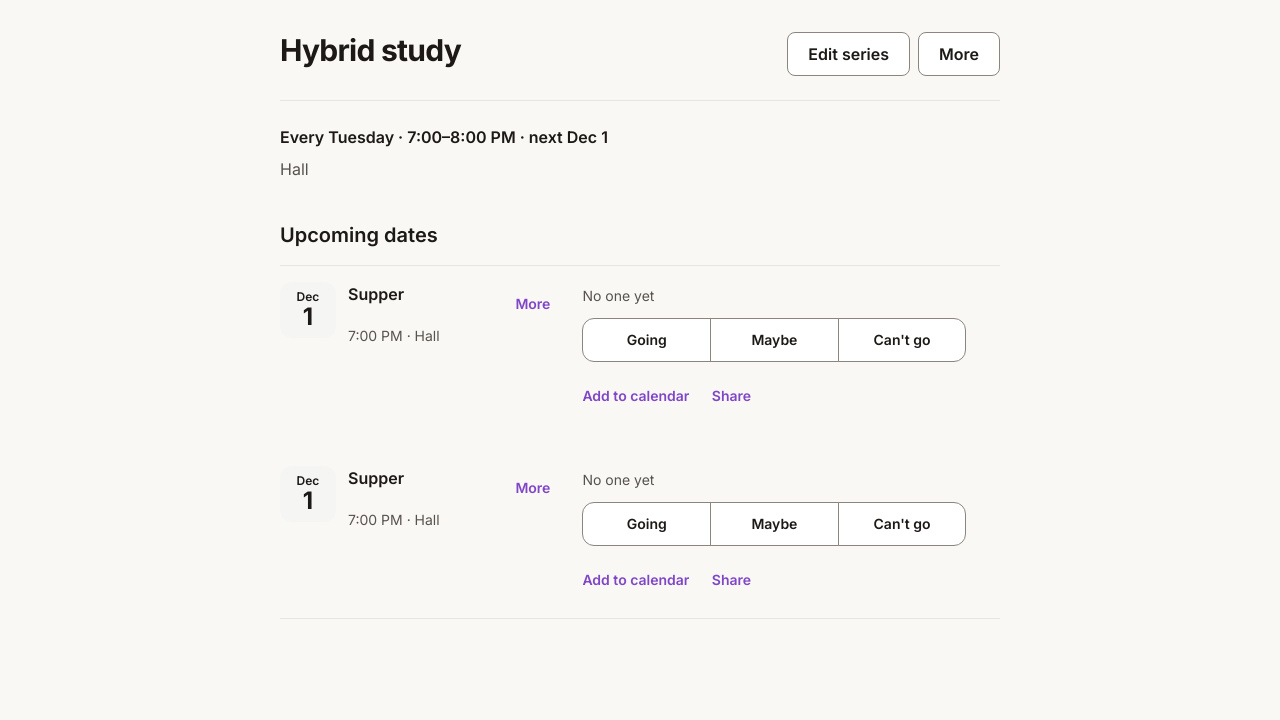
clears a sibling card's series Undo after a one-date answer
Click the 1st button "Maybe".
click(774, 340)  # box 710,318 -> 839,362
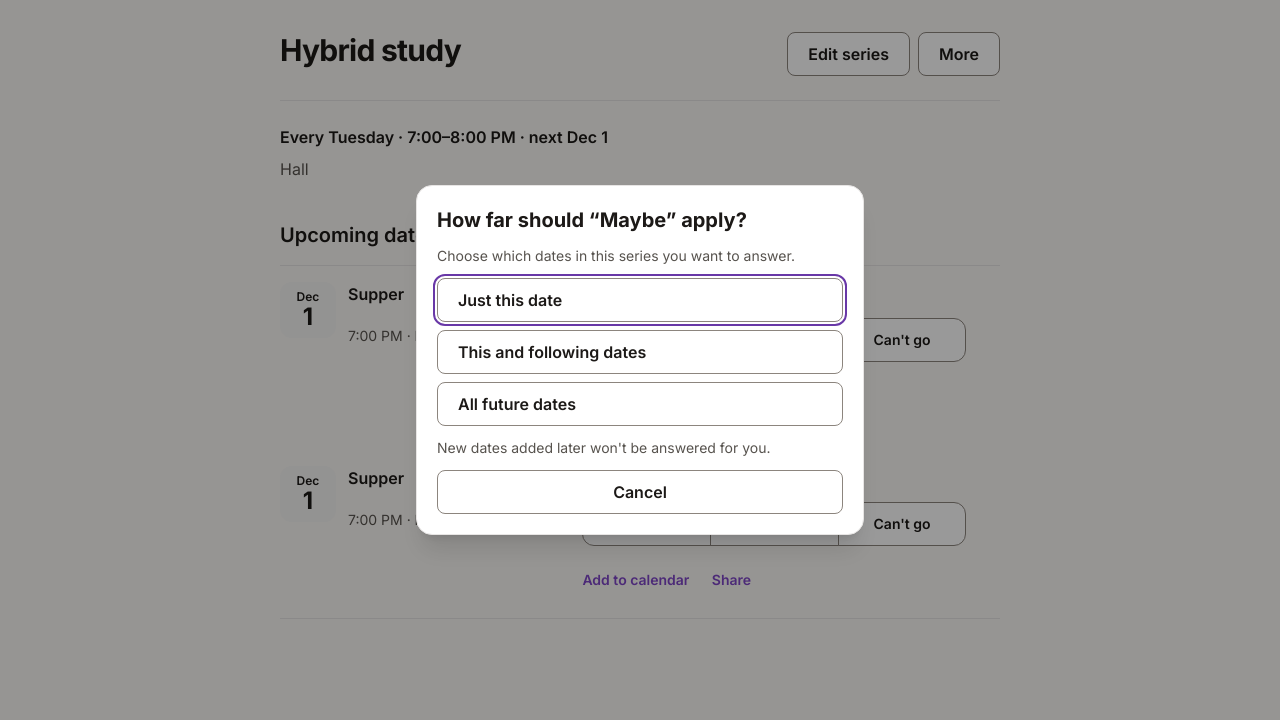
Click the button "All future dates".
click(517, 404)  # box 437,382 -> 843,426
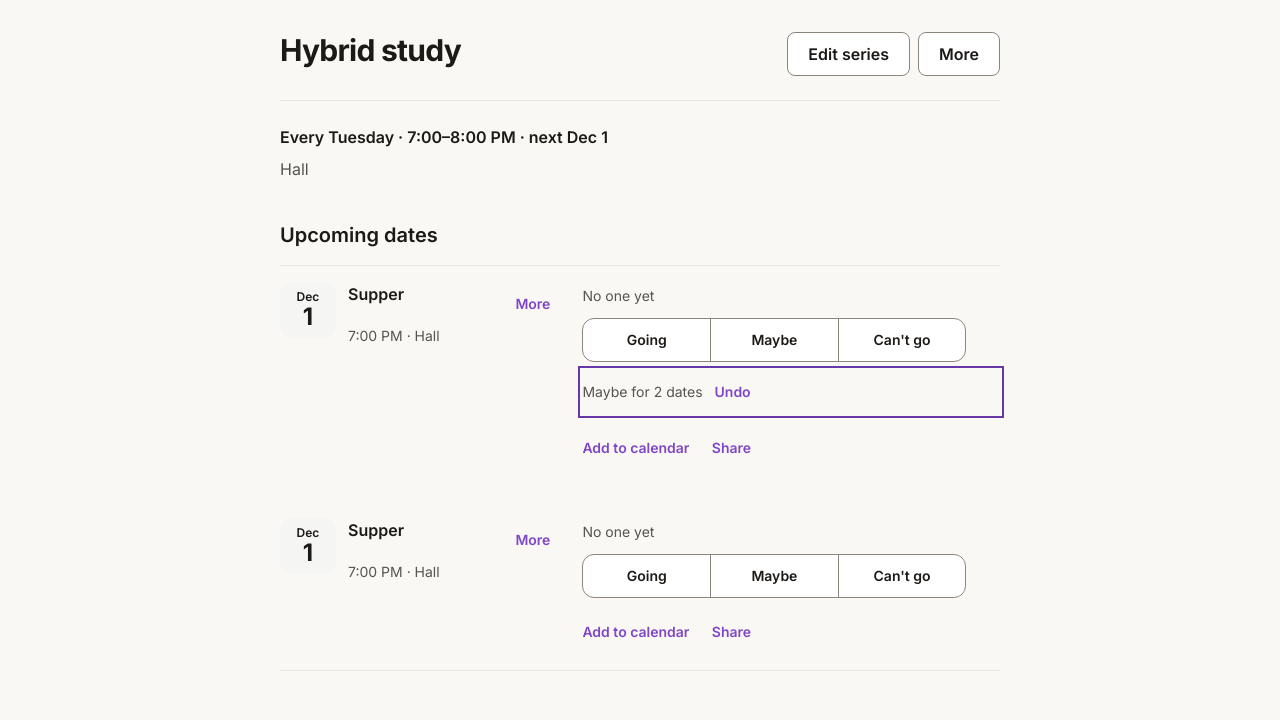
Now the button "Undo" is shown, box 711,370 -> 755,414
Click the 2nd button "Going".
click(647, 576)  # box 582,554 -> 711,598
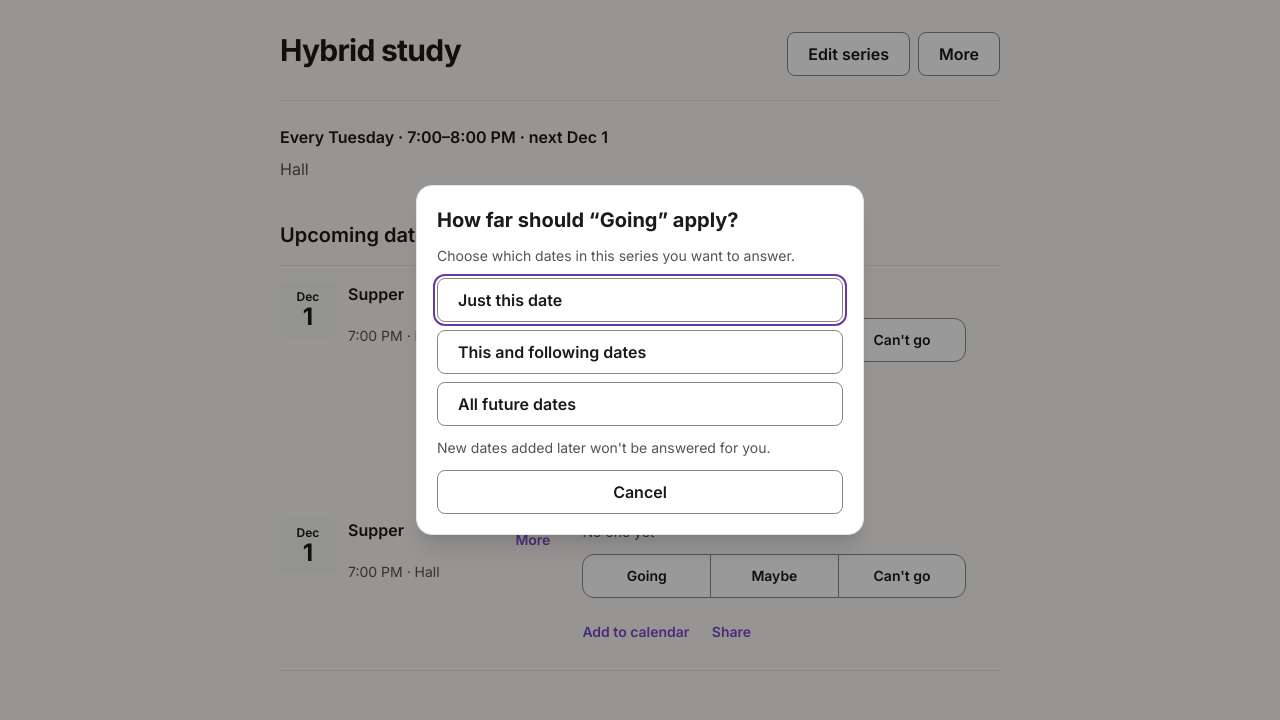
Click the button "Just this date".
click(510, 300)  # box 437,278 -> 843,322
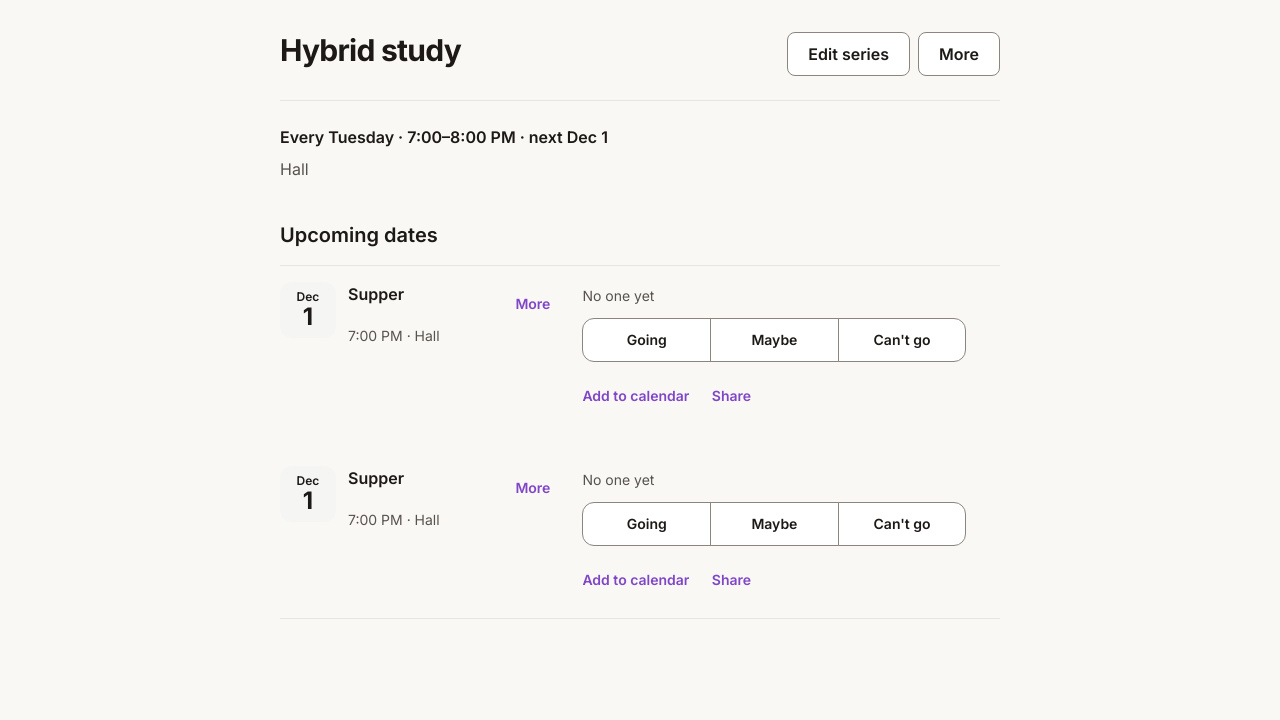
Now the button "Undo" is gone
